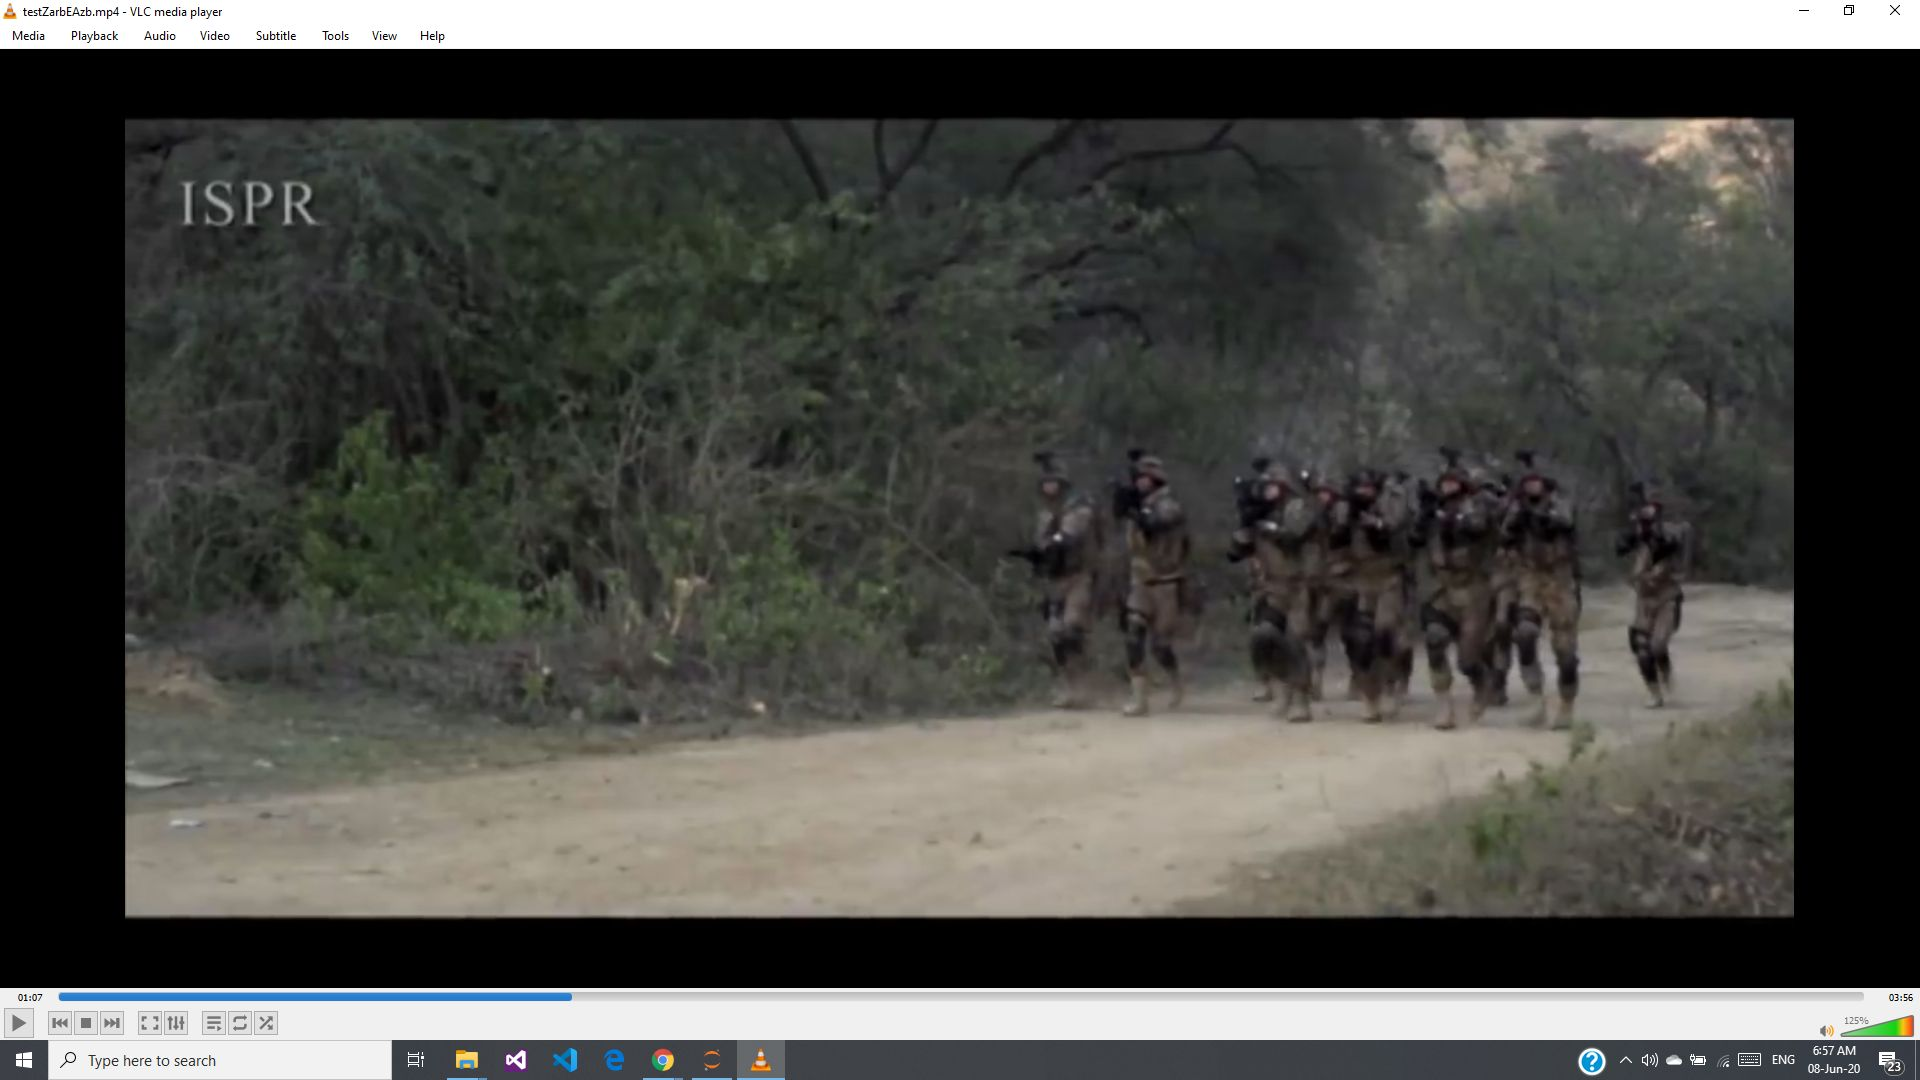uniform: (1004, 423, 1106, 724), (1303, 450, 1412, 703), (1230, 448, 1331, 713), (1600, 475, 1698, 723), (1106, 446, 1200, 688), (1422, 456, 1505, 728), (1513, 455, 1586, 727)
